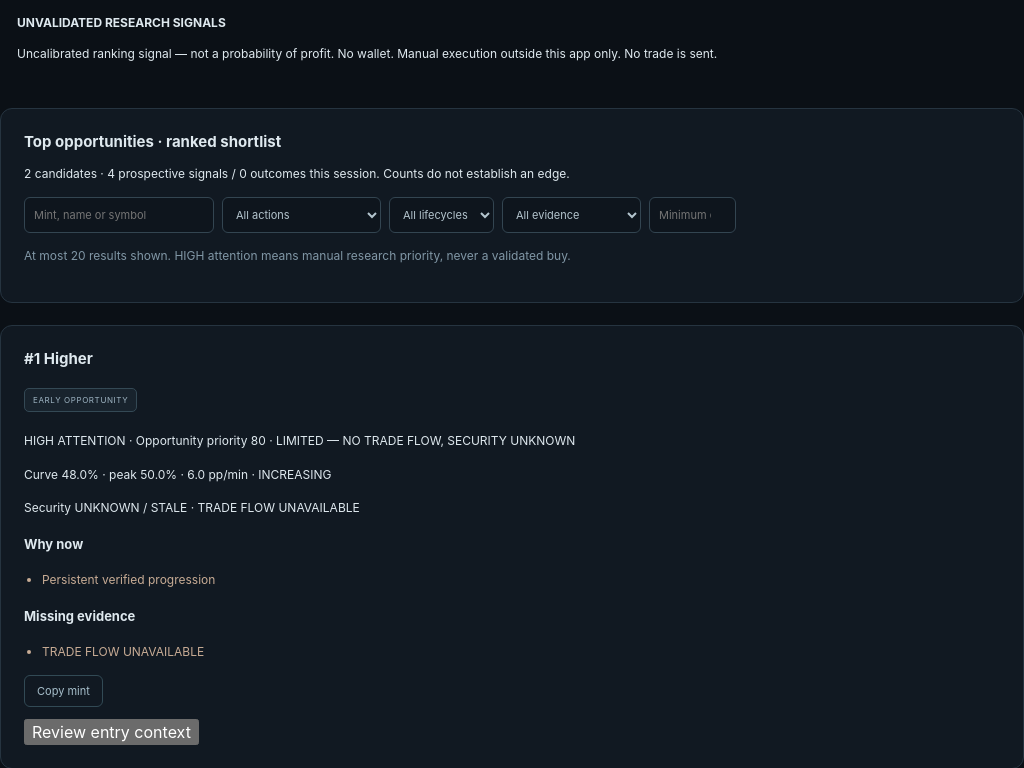
Test: Opportunity ranked shortlist, evidence labels, filters and copy mint
Expected: the text "UNVALIDATED RESEARCH SIGNALS" is shown, [17,15,226,30]
Expected: the text "not a probability of profit" is shown, [17,46,717,61]
Click the button "Copy mint". click: click(63, 691)
box: [24,675,103,707]
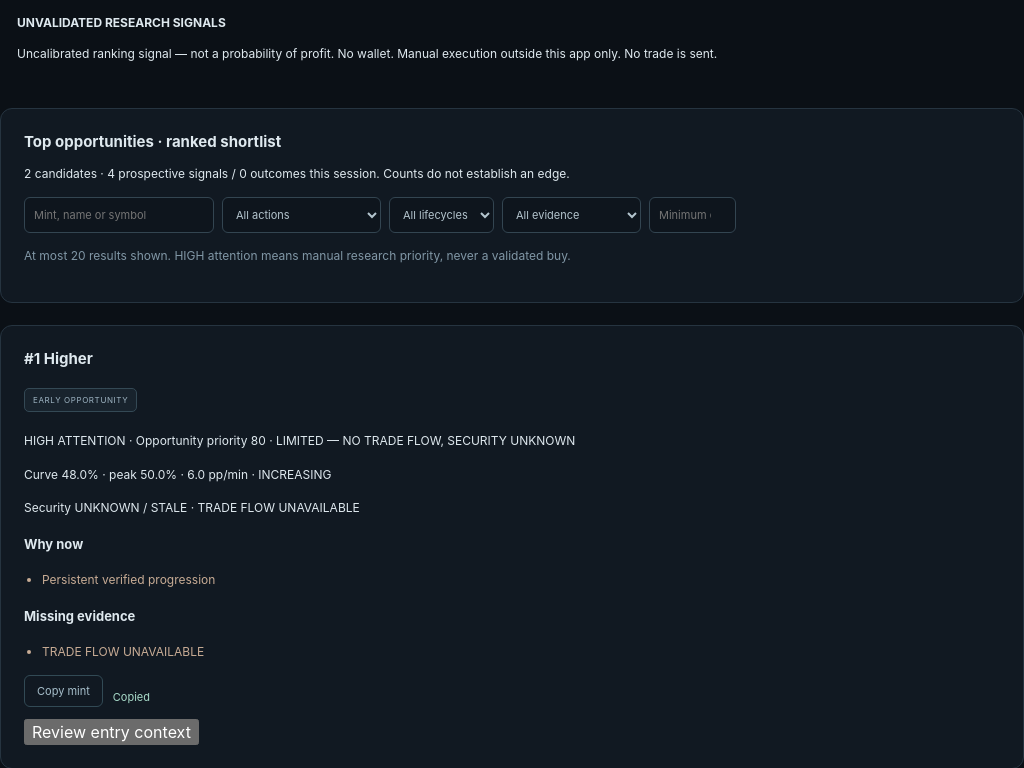
Expected: the text "Copied" is shown, [113,690,150,704]
Type "Lower" into the field named "Search opportunities". click: (119, 215)
box: [24,197,214,233]
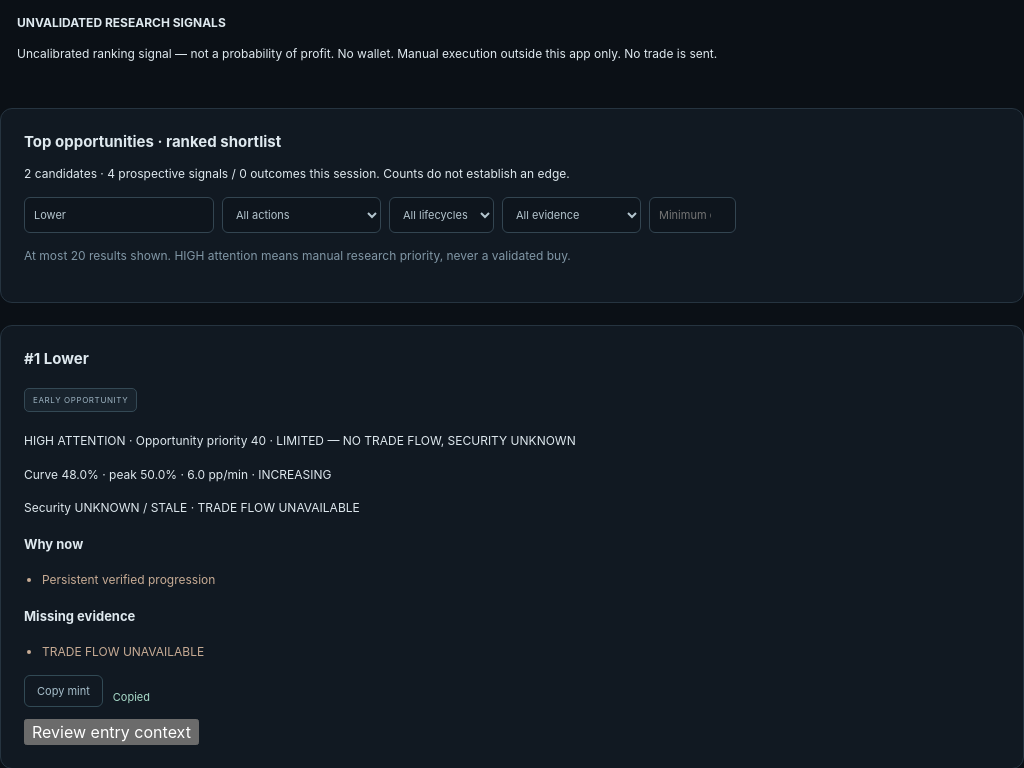
Type "60" into the number field named "Minimum current curve". click: (692, 215)
box: [649,197,736,233]
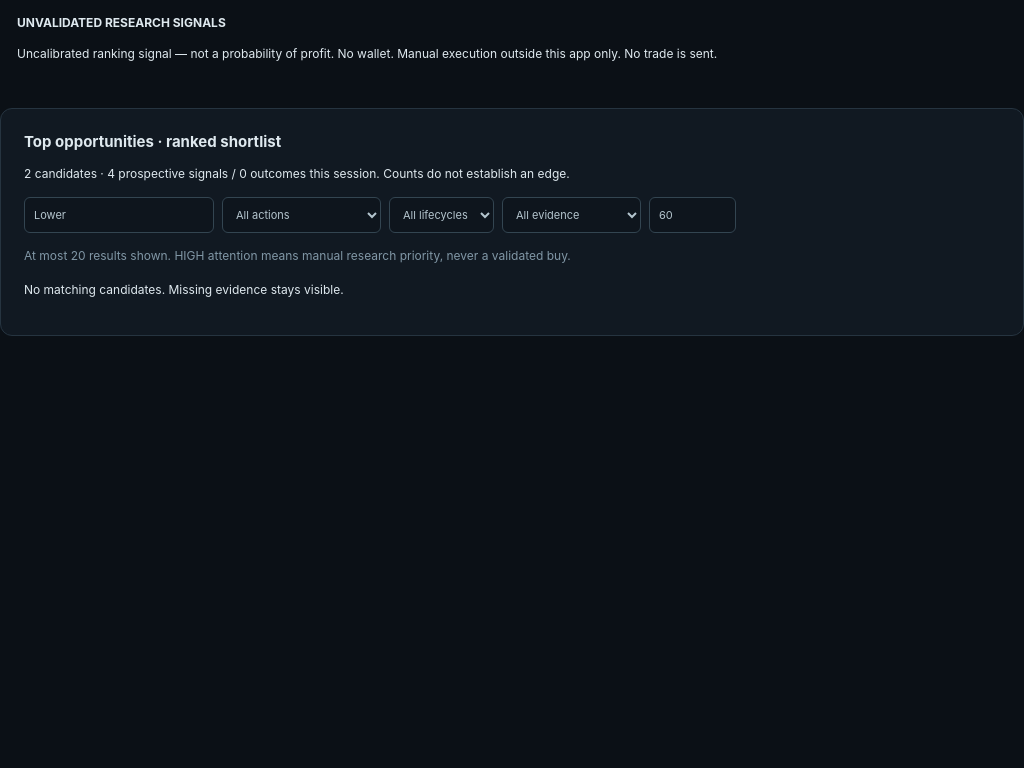
Expected: the text "No matching candidates. Missing evidence stays visible." is shown, [24,282,344,297]
